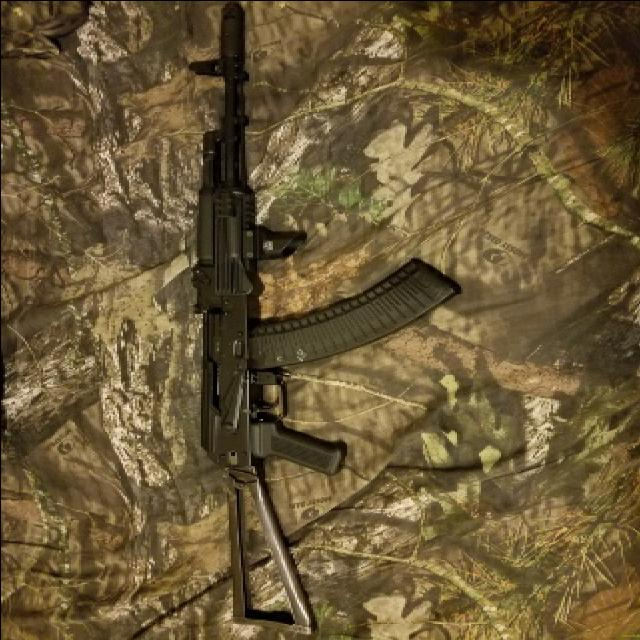rifle: (159, 3, 463, 637)
